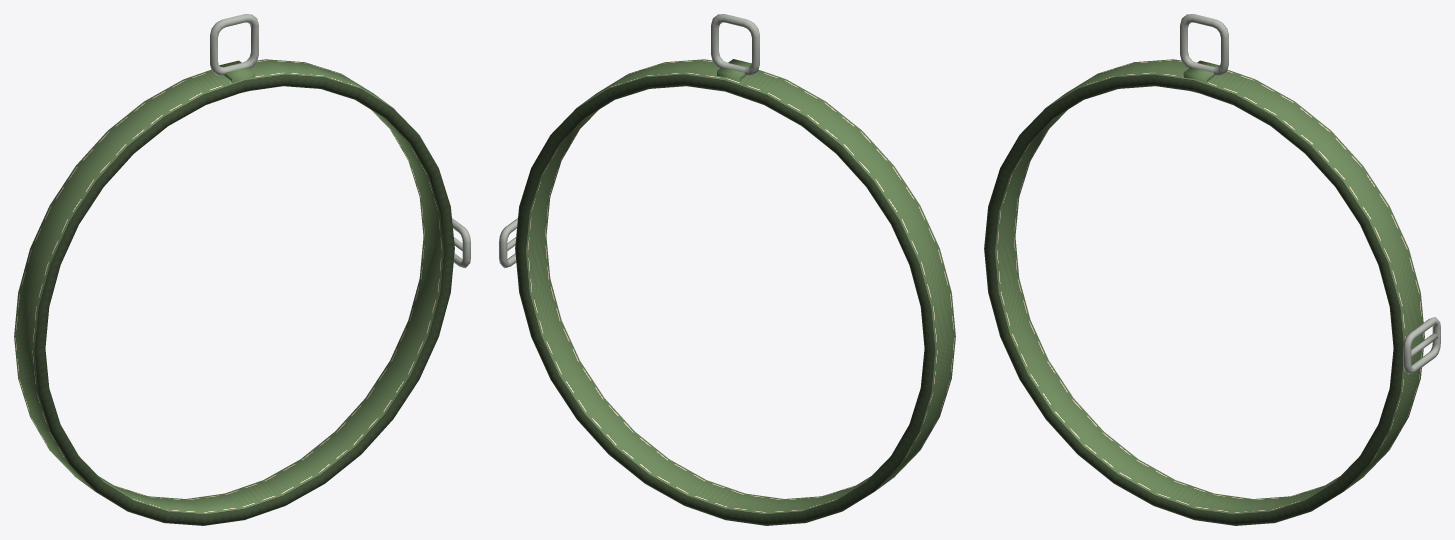
File: KH_Collar_Samoyed.fbx
3 renders of one model, left to right at view 1: azimuth 30°, elevation 25°; view 2: azimuth 150°, elevation 25°; view 3: azimuth 330°, elevation 25°, orthographic.
Visible parts, largest first — view 1: KH_Collar_Samoyed; view 2: KH_Collar_Samoyed; view 3: KH_Collar_Samoyed.
Part boxes in pixels (x1,y1,x2,y2): KH_Collar_Samoyed: (14,14,470,525); KH_Collar_Samoyed: (499,14,955,525); KH_Collar_Samoyed: (984,14,1440,525).
Bounding box in the file's own units: 0.3369 × 0.3707 × 0.0456.
Materials: 1 (1 with a texture image).
